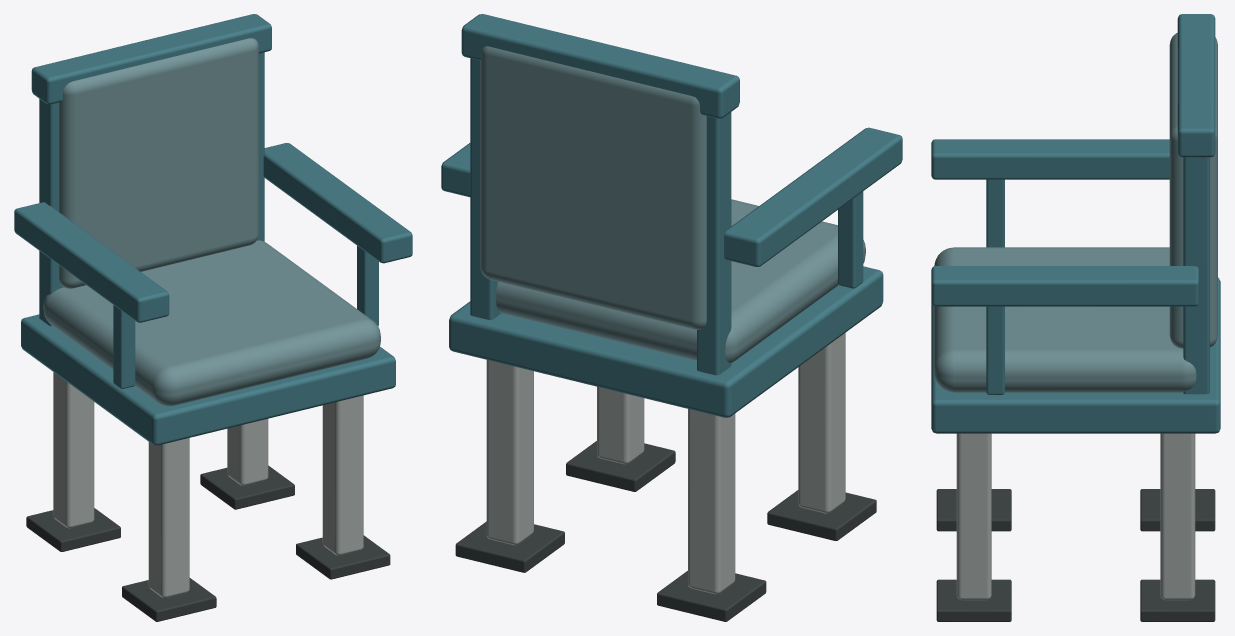
File: optician-and-optical-lens-workshop-optician-and-optica-3ad63568__31713.glb
The picture shows the model from 3 angles, left to right: view 1: azimuth 30°, elevation 25°; view 2: azimuth 150°, elevation 25°; view 3: azimuth 270°, elevation 25°; orthographic projection. The views are drawn at different scales.
Visible parts, largest first — view 1: optician-and-optical-lens-workshop-waiting-chair; view 2: optician-and-optical-lens-workshop-waiting-chair; view 3: optician-and-optical-lens-workshop-waiting-chair.
Boxes of the visible parts, box(x1,y1,x2,y2) form: optician-and-optical-lens-workshop-waiting-chair: box(14, 14, 412, 621); optician-and-optical-lens-workshop-waiting-chair: box(441, 14, 902, 621); optician-and-optical-lens-workshop-waiting-chair: box(931, 14, 1220, 621).
Bounding box in the file's own units: 0.635 × 1.01 × 0.54.
